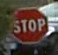stop: (9, 6, 48, 44)
